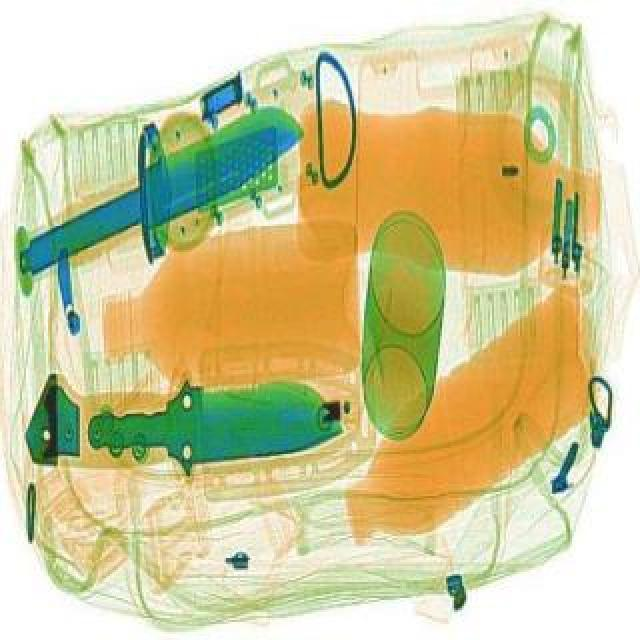knife: (0, 52, 344, 310), (90, 366, 344, 478)
